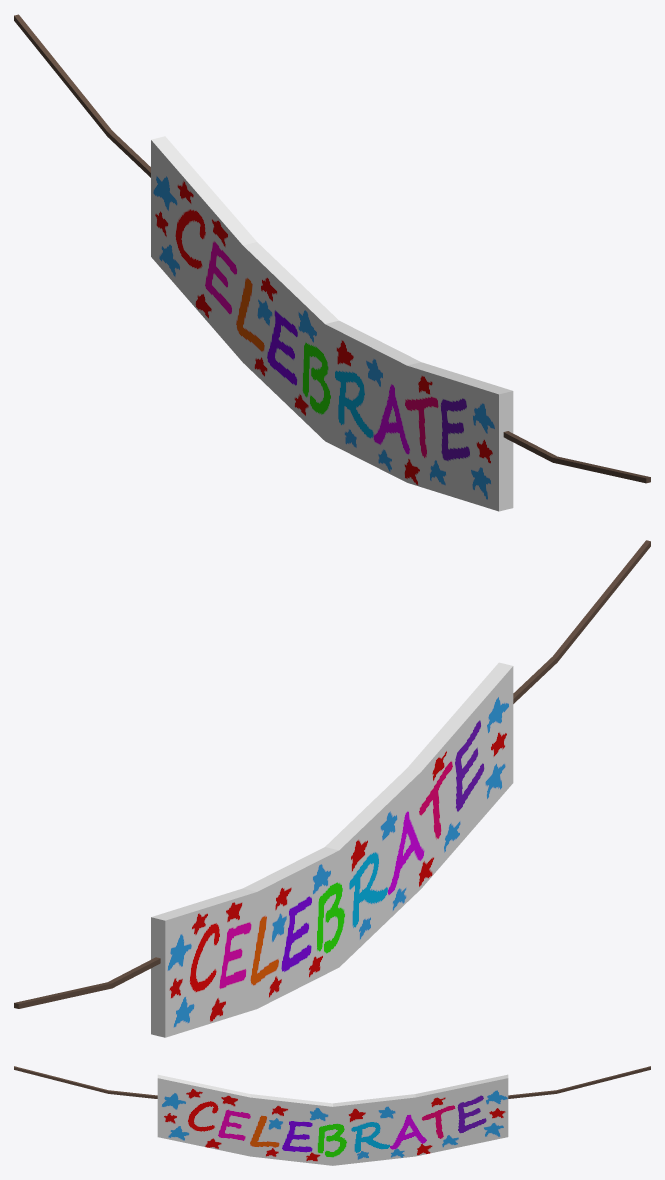
File: Party banner.fbx
The picture shows the model from 3 angles, top to bottom: view 1: azimuth 30°, elevation 25°; view 2: azimuth 150°, elevation 25°; view 3: azimuth 270°, elevation 25°; orthographic projection. The views are drawn at different scales.
Visible parts, largest first — view 1: Cube, Cube.001; view 2: Cube, Cube.001; view 3: Cube, Cube.001.
Boxes of the visible parts, bbox=[...] form: Cube: bbox=[151, 136, 513, 511]; Cube.001: bbox=[14, 14, 650, 483]; Cube: bbox=[151, 662, 513, 1037]; Cube.001: bbox=[14, 540, 650, 1008]; Cube: bbox=[157, 1074, 508, 1165]; Cube.001: bbox=[14, 1066, 650, 1098].
Size of the model in its own units: 17.97 by 232 by 1376.
